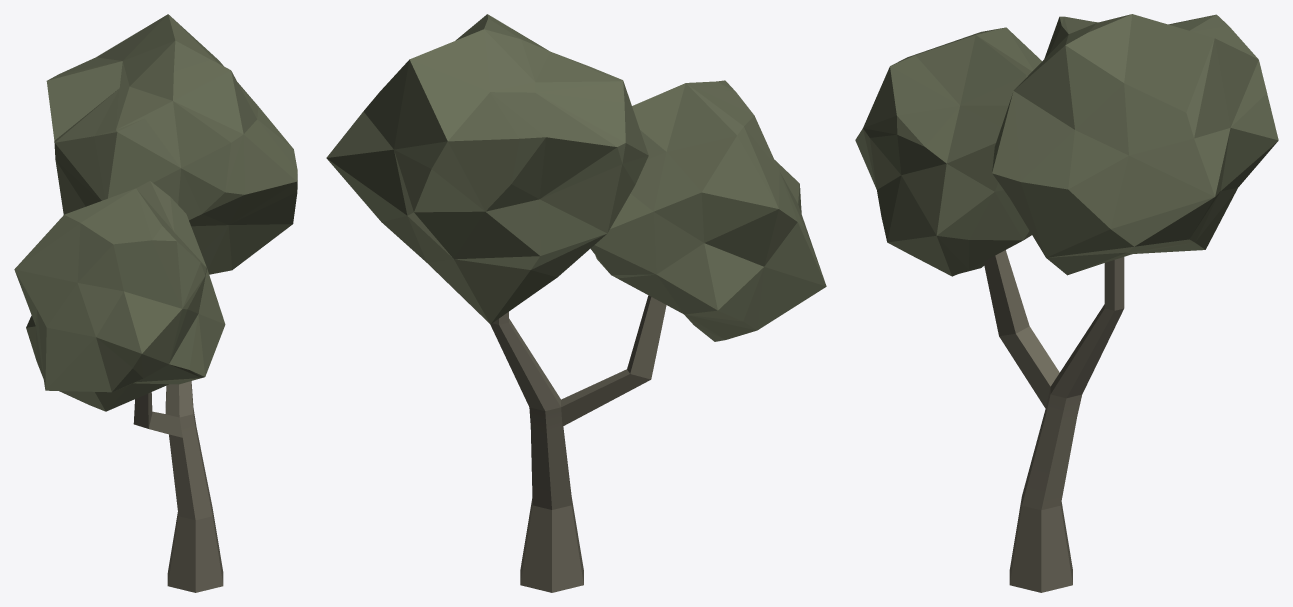
File: LP_Tree_02.fbx
3 renders of one model, left to right at view 1: azimuth 30°, elevation 25°; view 2: azimuth 150°, elevation 25°; view 3: azimuth 270°, elevation 25°, orthographic. The views are drawn at different scales.
Visible parts, largest first — view 1: LP_Tree_02; view 2: LP_Tree_02; view 3: LP_Tree_02.
Part boxes in pixels (x1,y1,x2,y2): LP_Tree_02: (14, 14, 297, 592); LP_Tree_02: (326, 14, 826, 592); LP_Tree_02: (855, 14, 1278, 592).
Size of the model in its own units: 23.29 by 34.66 by 23.16.
